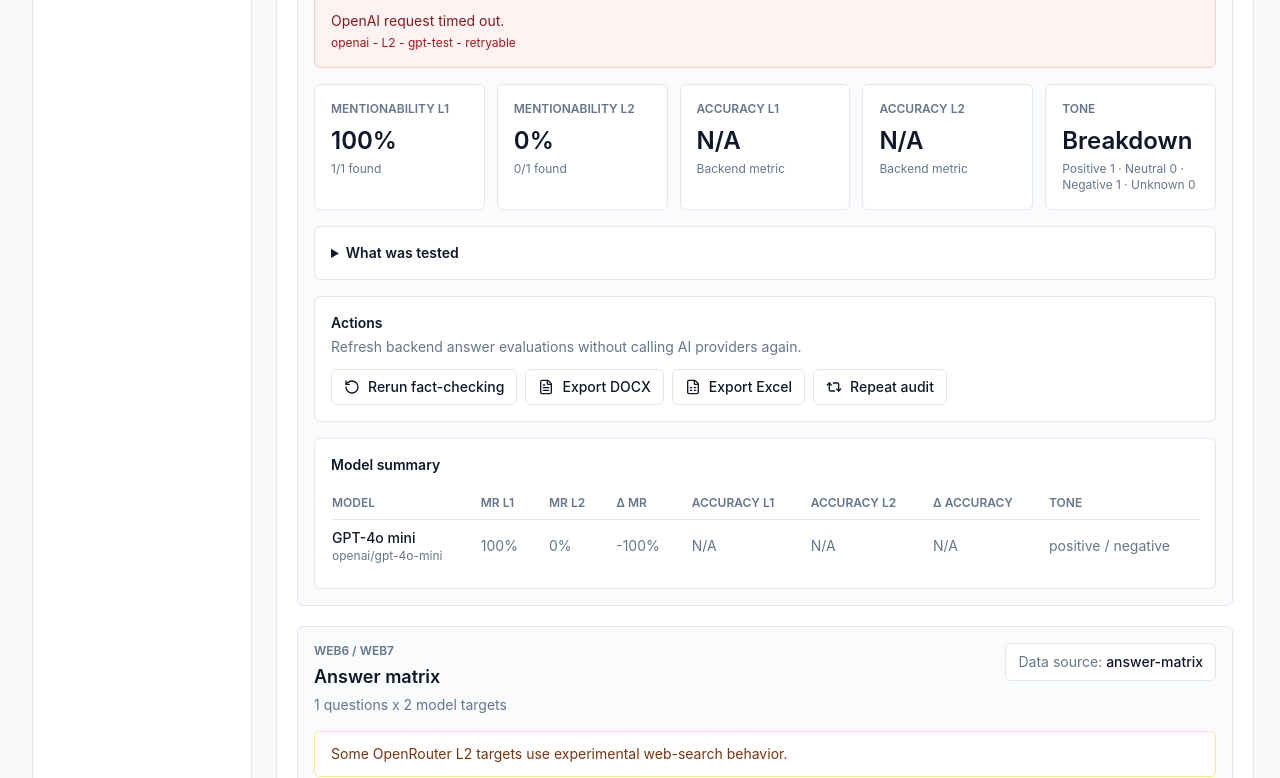
Test: audit summary page › shows a safe repeat error without leaking backend details
(page scrolled)
Click the button "Repeat audit".
click(880, 387)  # box x1=813 y1=369 x2=947 y2=405
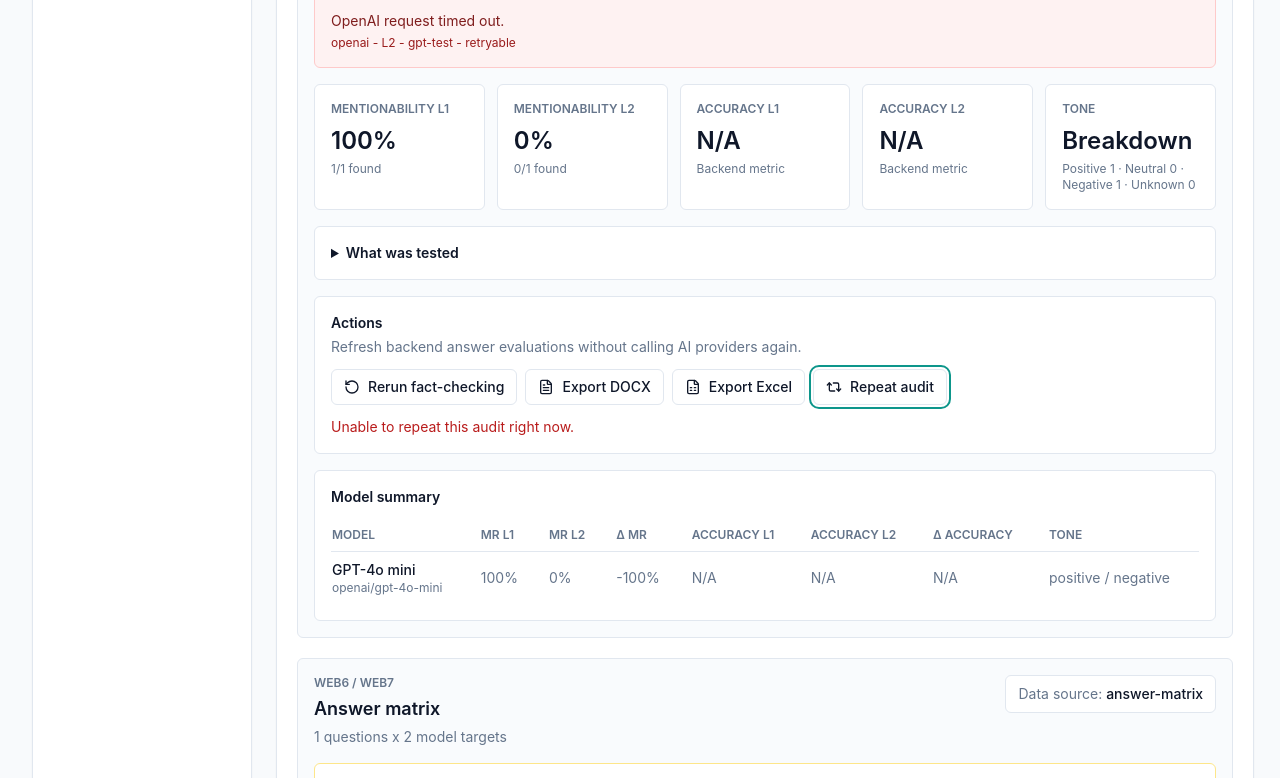
Check: the text "Unable to repeat this audit right now." is shown, box x1=331 y1=418 x2=574 y2=435
